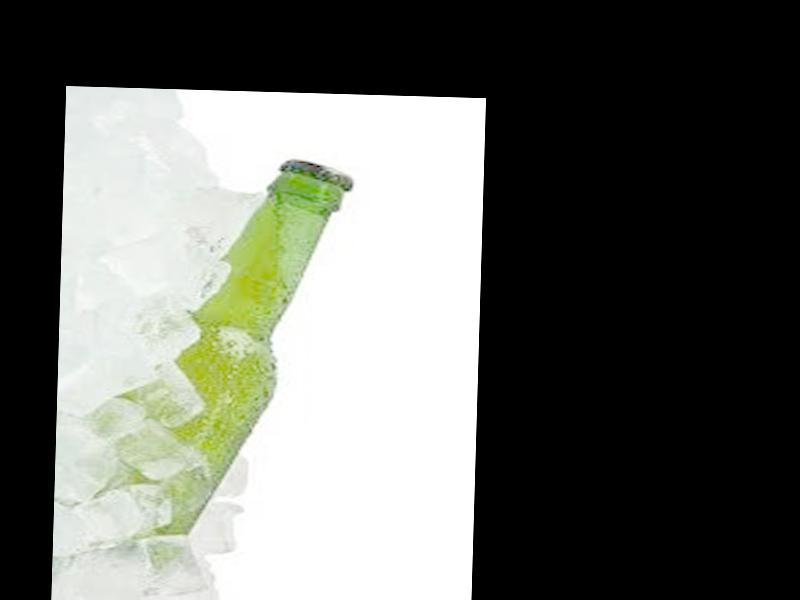Beer: (132, 150, 350, 569)
